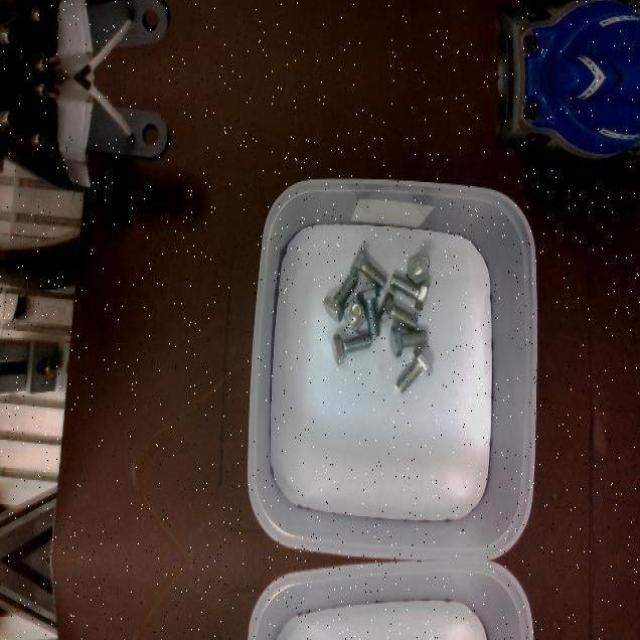screw: (396, 345, 432, 392), (322, 274, 356, 320), (350, 245, 386, 288), (378, 292, 418, 330), (390, 272, 430, 309), (356, 286, 380, 338), (332, 333, 371, 364), (390, 326, 428, 357), (406, 253, 430, 283), (343, 300, 365, 330)
